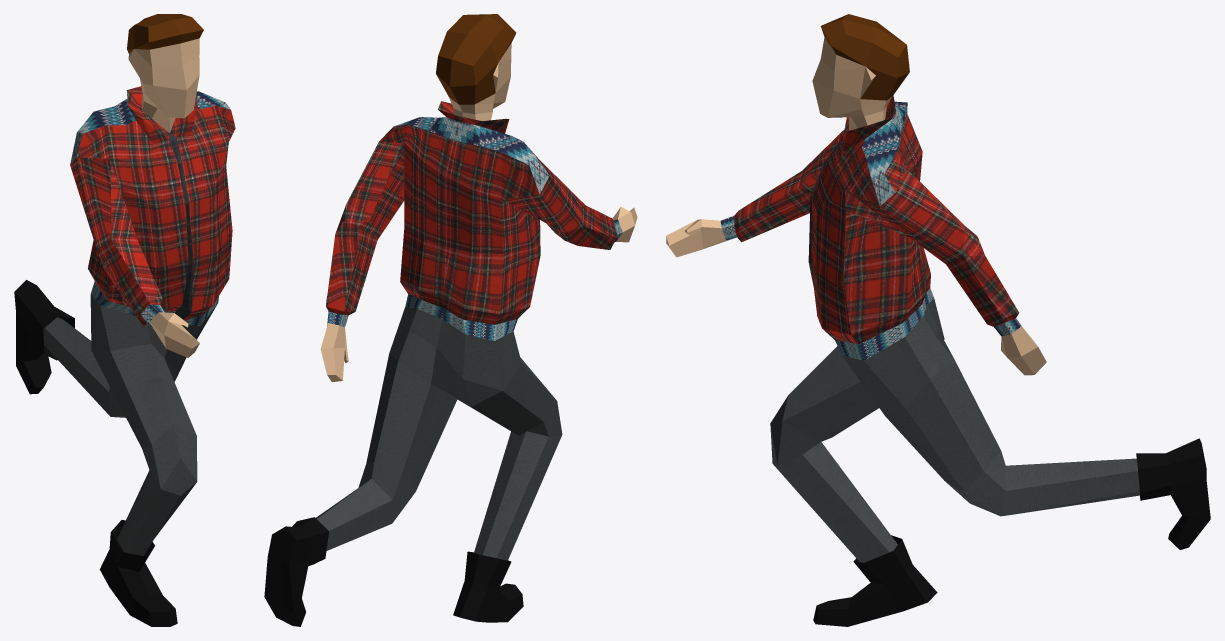
The model's file is AutumnManC.008.glb.
The picture shows the model from 3 angles, left to right: view 1: azimuth 30°, elevation 25°; view 2: azimuth 150°, elevation 25°; view 3: azimuth 270°, elevation 25°; orthographic projection. The views are drawn at different scales.
Parts seen in each view (by area): view 1: AutumnManC.008; view 2: AutumnManC.008; view 3: AutumnManC.008.
Part boxes in pixels (box(x1,y1,x2,y2)): AutumnManC.008: box(14, 14, 235, 626); AutumnManC.008: box(264, 14, 637, 626); AutumnManC.008: box(666, 14, 1210, 626).
Bounding box in the file's own units: 0.4905 × 1.59 × 1.28.
1 material, 1 textured.
